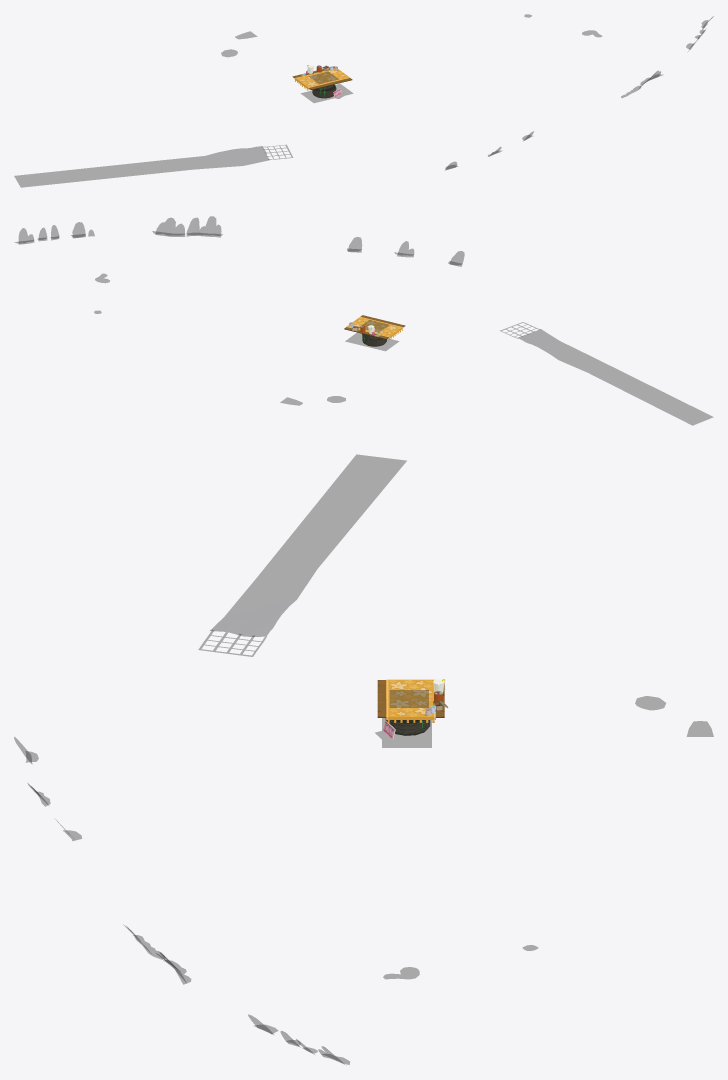
File: BeachParty_Table.glb
3 views of the same model, one above another, from view 1: azimuth 30°, elevation 25°; view 2: azimuth 150°, elevation 25°; view 3: azimuth 270°, elevation 25° (orthographic). The views are drawn at different scales.
Visible parts, largest first — view 1: BeachParty_Shadow, BeachParty_Table; view 2: BeachParty_Shadow, BeachParty_Table; view 3: BeachParty_Shadow, BeachParty_Table.
Boxes of the visible parts, x1,y1,x2,y2 form: BeachParty_Shadow: (14,14,713,187); BeachParty_Table: (292,66,352,98); BeachParty_Shadow: (15,216,712,425); BeachParty_Table: (344,315,405,346); BeachParty_Shadow: (14,454,713,1064); BeachParty_Table: (377,679,444,739).
Size of the model in its own units: 85.22 by 3.5 by 41.03.
3 materials, 3 textured.
